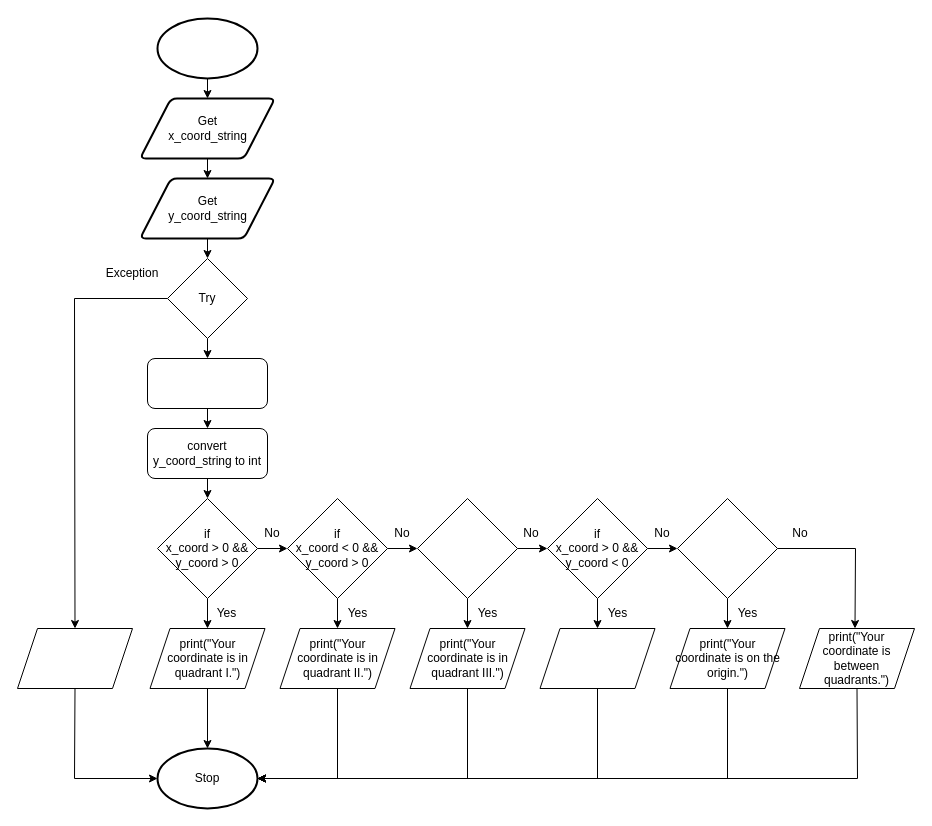
This 932x826 diagram has some shape labels left out. Here are the shapes that lost their labels. From the top down, the centre of each, then its label:
the point at 207,48: Start
the point at 207,383: convert x_coord_string to int
the point at 467,548: if x_coord < 0 && y_coord < 0
the point at 727,548: if x_coord == 0 && y_coord == 0
the point at 74,658: print("Invalid Coordinates. Please Re-Run")
the point at 597,658: print("Your coordinate is in quadrant IV.")
